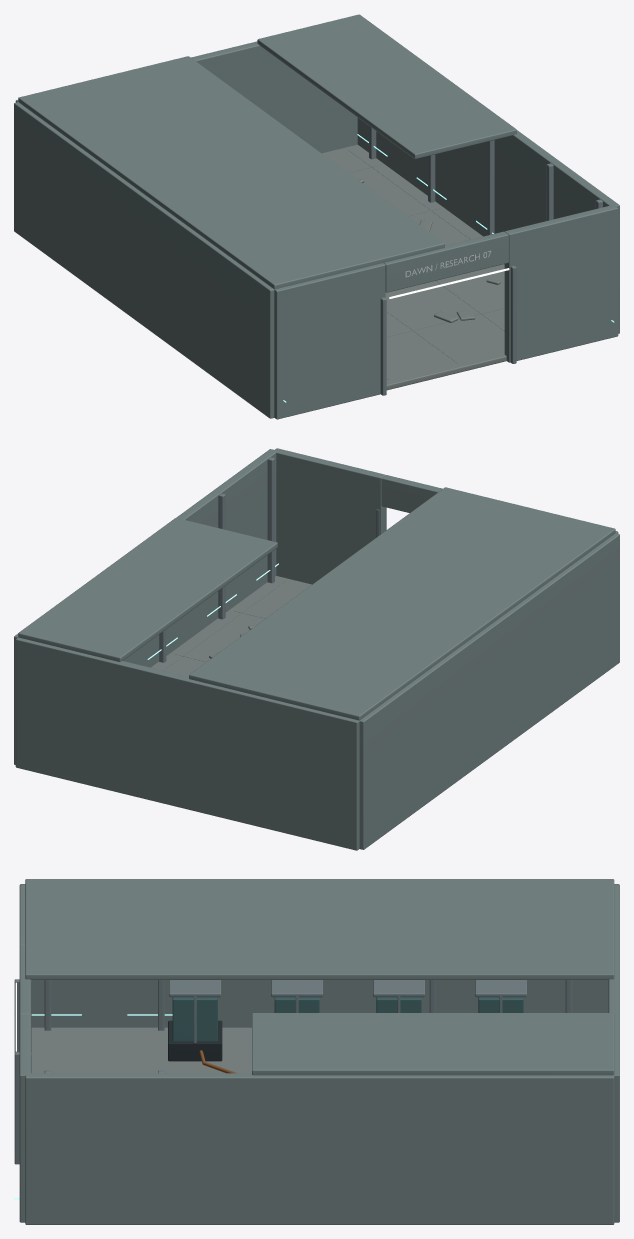
Rendered from dawn-lab.glb.
The picture shows the model from 3 angles, top to bottom: view 1: azimuth 30°, elevation 25°; view 2: azimuth 150°, elevation 25°; view 3: azimuth 270°, elevation 25°; orthographic projection. The views are drawn at different scales.
Visible parts, largest first — view 1: Structure 7, Structure 1, Structure 8, Structure 0, Structure 5, Structure 4, Structure 2, Structure 3, Structure 6, Structural rib.007, Doorframe.001, Doorframe; view 2: Structure 3, Structure 7, Structure 1, Structure 8, Structure 5, Structure 2, Structure 0, Structure 6, Structural rib.009; view 3: Structure 2, Structure 7, Structure 8, Structure 1, Structure 0, Structure 3, Opaque containment glass.003, Structure 5, Specimen plinth.003, Specimen top.001, Specimen top.002, Specimen top.003 (+6 smaller).
Boxes of the visible parts, x1,y1,x2,y2 form: Structure 7: [18, 56, 444, 289]; Structure 1: [14, 102, 274, 418]; Structure 8: [257, 14, 516, 159]; Structure 0: [322, 144, 506, 390]; Structure 5: [504, 205, 618, 362]; Structure 4: [274, 263, 385, 419]; Structure 2: [357, 118, 619, 333]; Structure 3: [15, 41, 357, 153]; Structure 6: [384, 231, 508, 292]; Structural rib.007: [487, 140, 494, 235]; Doorframe.001: [510, 265, 516, 363]; Doorframe: [380, 297, 386, 395]; Structure 3: [15, 637, 359, 850]; Structure 7: [189, 487, 615, 720]; Structure 1: [359, 533, 619, 849]; Structure 8: [18, 518, 277, 661]; Structure 5: [274, 448, 385, 584]; Structure 2: [14, 449, 276, 764]; Structure 0: [151, 576, 311, 676]; Structure 6: [381, 475, 442, 512]; Structural rib.009: [267, 457, 274, 583]; Structure 2: [25, 1073, 614, 1224]; Structure 7: [25, 879, 614, 979]; Structure 8: [252, 1013, 614, 1075]; Structure 1: [31, 980, 608, 1027]; Structure 0: [31, 1027, 251, 1073]; Structure 3: [608, 884, 619, 1222]; Opaque containment glass.003: [172, 997, 217, 1041]; Structure 5: [19, 1014, 30, 1222]; Specimen plinth.003: [168, 1020, 222, 1061]; Specimen top.001: [373, 980, 425, 997]; Specimen top.002: [271, 980, 323, 997]; Specimen top.003: [169, 980, 221, 997].
Size of the model in its own units: 20.5 by 7.45 by 26.75.
